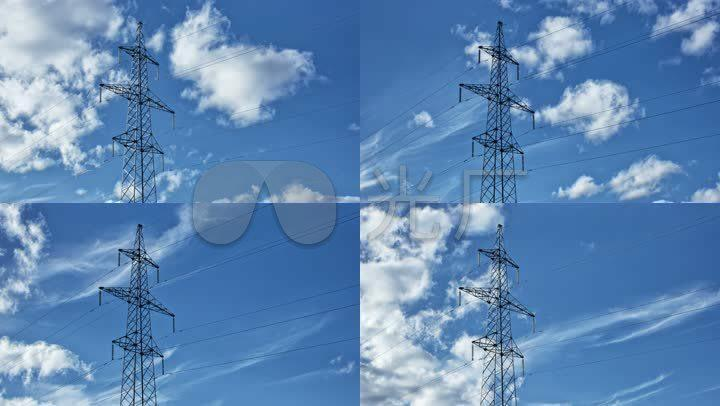power_tower: (88, 224, 176, 406), (450, 222, 537, 406), (452, 16, 531, 202), (111, 17, 184, 204)
